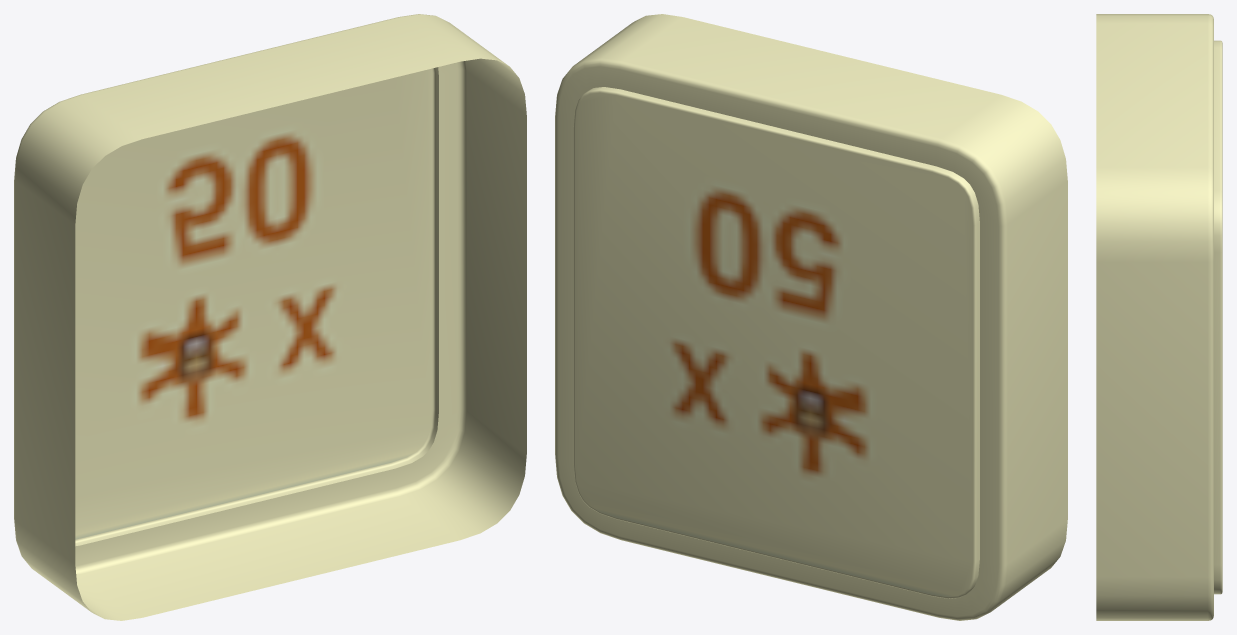
The model's file is Tile1.fbx.
3 views of the same model, side by side, from view 1: azimuth 30°, elevation 25°; view 2: azimuth 150°, elevation 25°; view 3: azimuth 270°, elevation 25° (orthographic). The views are drawn at different scales.
Parts seen in each view (by area): view 1: Game Tile001; view 2: Game Tile001; view 3: Game Tile001.
Boxes of the visible parts, <box> form: Game Tile001: <box>14,14,526,620</box>; Game Tile001: <box>555,14,1067,620</box>; Game Tile001: <box>1096,14,1222,620</box>.
Size of the model in its own units: 12.65 by 12.81 by 3.3.
1 material, 1 textured.
